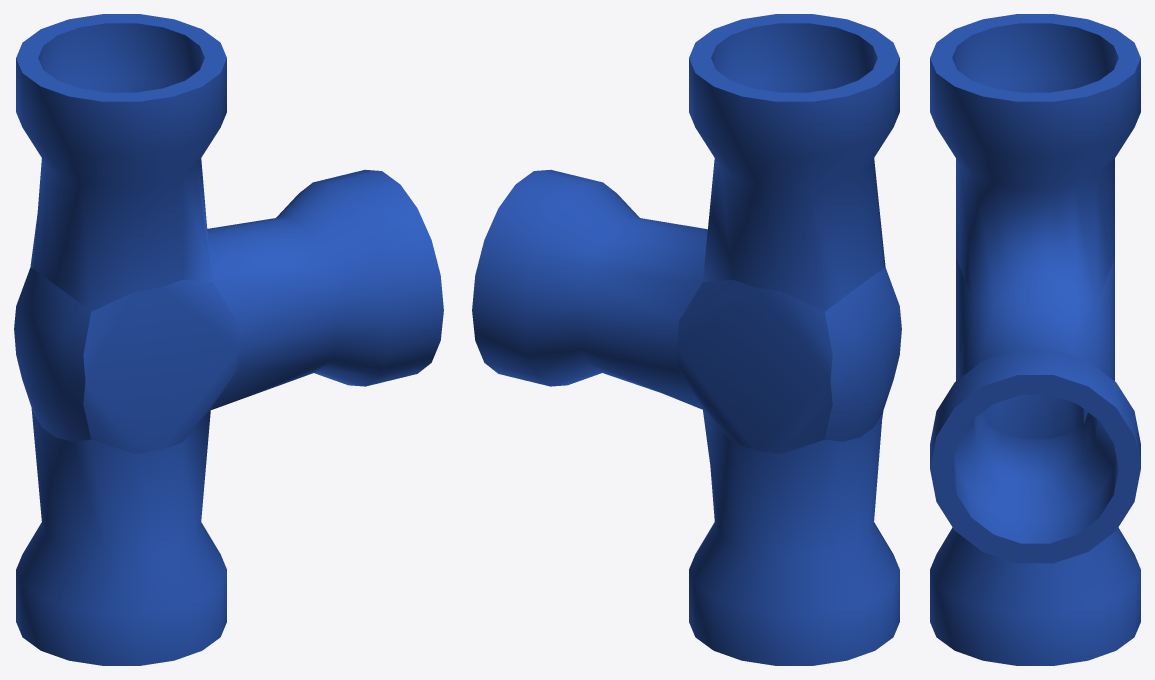
Rendered from Tpipe.fbx.
The picture shows the model from 3 angles, left to right: view 1: azimuth 30°, elevation 25°; view 2: azimuth 150°, elevation 25°; view 3: azimuth 270°, elevation 25°; orthographic projection.
Visible parts, largest first — view 1: Tube003; view 2: Tube003; view 3: Tube003.
Boxes of the visible parts, box(x1,y1,x2,y2) form: Tube003: box(14, 14, 443, 665); Tube003: box(472, 14, 901, 665); Tube003: box(930, 14, 1140, 665).
Size of the model in its own units: 47.39 by 71.05 by 24.07.
